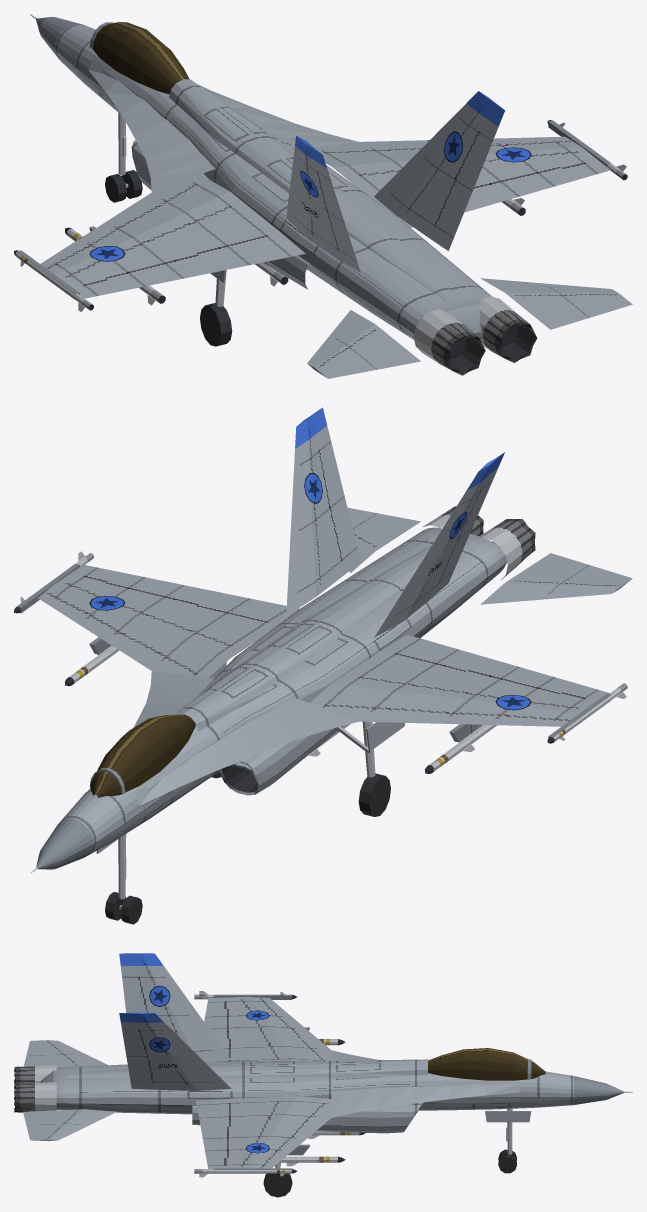
The picture shows the model from 3 angles, top to bottom: view 1: azimuth 30°, elevation 25°; view 2: azimuth 150°, elevation 25°; view 3: azimuth 270°, elevation 25°; orthographic projection. The views are drawn at different scales.
Visible parts, largest first — view 1: airframe, canopy, stab_l, stab_r, flap_l, rudder_r, aileron_l, aileron_r, gear_nose, gear_main_l, rudder_l, flap_r (+1 smaller); view 2: airframe, canopy, stab_l, flap_l, flap_r, stab_r, rudder_r, gear_main_l, gear_nose, aileron_l, aileron_r, rudder_l (+1 smaller); view 3: airframe, canopy, stab_r, stab_l, rudder_r, flap_r, rudder_l, aileron_r, gear_main_r, aileron_l, gear_nose, door_nose (+3 smaller).
Part boxes in pixels (left/top/right/bottom): airframe: left=17, top=14, right=611, bottom=375; canopy: left=89, top=22, right=189, bottom=94; stab_l: left=307, top=310, right=420, bottom=378; stab_r: left=480, top=278, right=632, bottom=329; flap_l: left=166, top=235, right=290, bottom=278; rudder_r: left=435, top=131, right=492, bottom=236; aileron_l: left=85, top=262, right=184, bottom=295; aileron_r: left=498, top=163, right=596, bottom=196; gear_nose: left=105, top=112, right=142, bottom=202; gear_main_l: left=200, top=270, right=232, bottom=346; rudder_l: left=317, top=172, right=356, bottom=260; flap_r: left=464, top=181, right=517, bottom=212; airframe: left=17, top=407, right=611, bottom=872; canopy: left=89, top=714, right=195, bottom=797; stab_l: left=480, top=553, right=632, bottom=604; flap_l: left=396, top=638, right=517, bottom=678; flap_r: left=166, top=585, right=286, bottom=622; stab_r: left=347, top=507, right=420, bottom=572; rudder_r: left=319, top=441, right=356, bottom=558; gear_main_l: left=337, top=721, right=390, bottom=816; gear_nose: left=105, top=834, right=142, bottom=924; aileron_l: left=498, top=666, right=596, bottom=698; aileron_r: left=85, top=568, right=184, bottom=597; rudder_l: left=438, top=480, right=492, bottom=583; airframe: left=14, top=953, right=632, bottom=1173; canopy: left=428, top=1048, right=545, bottom=1080; stab_r: left=23, top=1109, right=116, bottom=1141; stab_l: left=23, top=1040, right=108, bottom=1067; rudder_r: left=122, top=1029, right=153, bottom=1081; flap_r: left=197, top=1103, right=230, bottom=1138; rudder_l: left=122, top=976, right=146, bottom=1012; aileron_r: left=202, top=1137, right=228, bottom=1165; gear_main_r: left=263, top=1162, right=292, bottom=1197; aileron_l: left=204, top=1002, right=228, bottom=1029; gear_nose: left=498, top=1108, right=516, bottom=1173; door_nose: left=485, top=1111, right=531, bottom=1122.
Size of the model in its own units: 11.82 by 5.78 by 17.35.
Materials: 6 (6 with a texture image).
